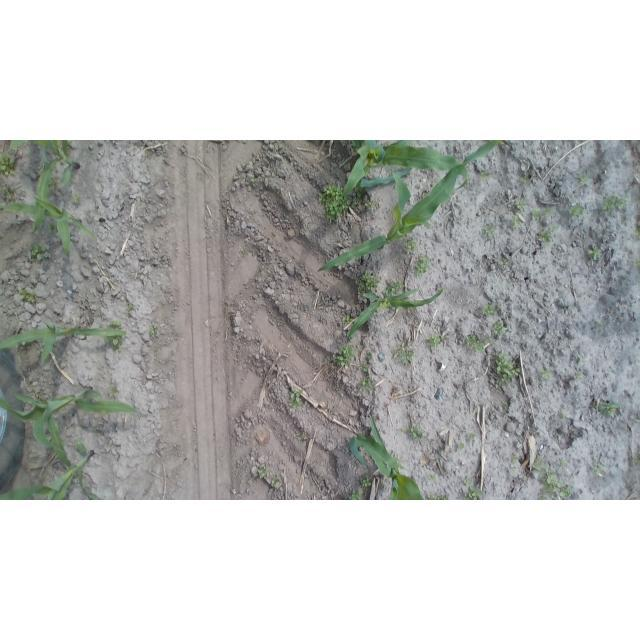Maize: (314, 156, 489, 272), (2, 385, 143, 469), (344, 141, 496, 200), (7, 142, 87, 238), (0, 194, 102, 261), (345, 282, 448, 348), (2, 319, 127, 369), (349, 417, 425, 499), (0, 443, 98, 499), (7, 140, 84, 201)
Weeds: (318, 184, 351, 223), (537, 466, 571, 499), (494, 351, 521, 385), (355, 269, 380, 293), (331, 344, 355, 368), (465, 334, 491, 355), (602, 193, 629, 213), (596, 400, 621, 418), (30, 243, 51, 262), (414, 253, 432, 275), (393, 344, 415, 362), (0, 152, 16, 176), (289, 386, 304, 411), (385, 279, 406, 295), (538, 228, 555, 246), (407, 425, 425, 441), (19, 290, 38, 305), (586, 244, 602, 261), (405, 236, 420, 254), (426, 334, 445, 348), (492, 320, 508, 336), (108, 335, 124, 351), (360, 373, 373, 392), (570, 203, 586, 218), (1, 185, 16, 201), (465, 487, 483, 500), (481, 302, 495, 316), (540, 367, 553, 382), (484, 224, 497, 239), (353, 188, 363, 207), (512, 215, 524, 229), (515, 197, 527, 211), (349, 488, 363, 500), (44, 222, 57, 234), (360, 476, 372, 489), (576, 173, 589, 185), (109, 319, 124, 329), (426, 493, 450, 499), (533, 458, 544, 471), (530, 209, 543, 220), (365, 199, 376, 211), (479, 168, 490, 180), (107, 386, 118, 398), (296, 431, 309, 441), (258, 466, 268, 479), (521, 173, 532, 184), (149, 324, 159, 336), (594, 462, 603, 474), (343, 314, 353, 324), (125, 303, 135, 313), (557, 459, 568, 468), (457, 441, 466, 451), (572, 371, 582, 380), (428, 474, 438, 483), (49, 177, 58, 187), (510, 455, 520, 464), (576, 353, 584, 364), (501, 259, 509, 270), (249, 176, 260, 184), (272, 477, 281, 486), (467, 432, 477, 440), (359, 364, 370, 371), (240, 246, 249, 254), (544, 207, 552, 216), (463, 476, 471, 485), (509, 467, 518, 475), (72, 196, 80, 205), (551, 224, 559, 232), (594, 322, 602, 330), (367, 351, 374, 360), (632, 454, 638, 464), (399, 429, 406, 436), (561, 411, 567, 419)
